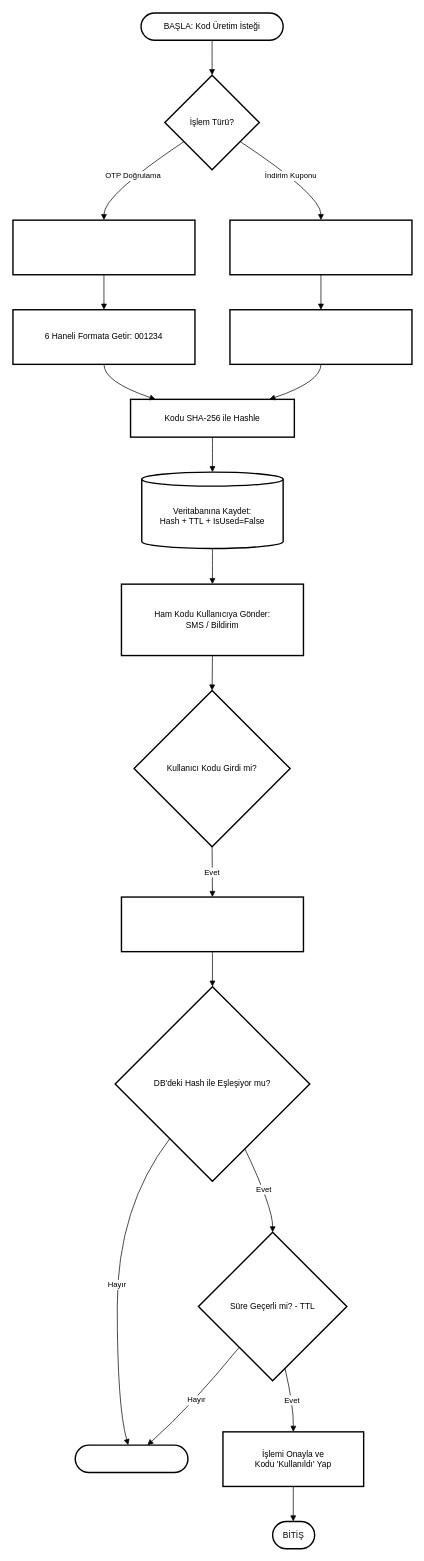
The diagram is 424 pixels wide and 1561 high, and some of its shapes have lost their labels. The shapes that lost their labels are listed below. From the top down, each one's centre as x and y in pixels, then its label:
At [103,247]: "CSPRNG ile 0-999.999 Arası Sayı Seç".
At [320,247]: "CSPRNG ile Alfabeden Karakter Seç".
At [320,337]: "Önek ve Tire Ekle: TAKSI-XXXX-XXXX".
At [212,924]: "Girilen Kodu SHA-256 ile Hashle".
At [131,1458]: "Hata: Geçersiz Kod".
